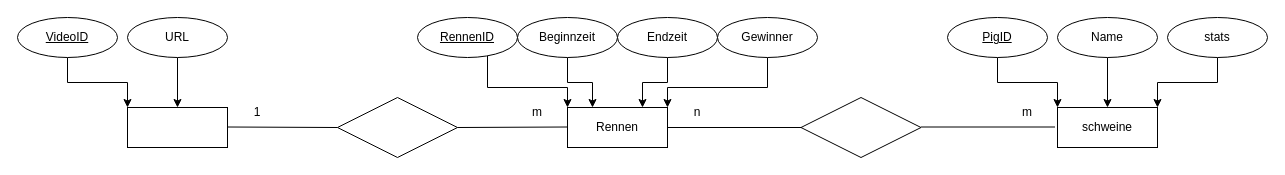
Image size: 1285x175. Some labels were removed from this diagram. Each missing label, with the centre of its shape:
"enthält" belongs at (397,127).
"hat Teilnehmer" belongs at (860,127).
"video" belongs at (177,127).
